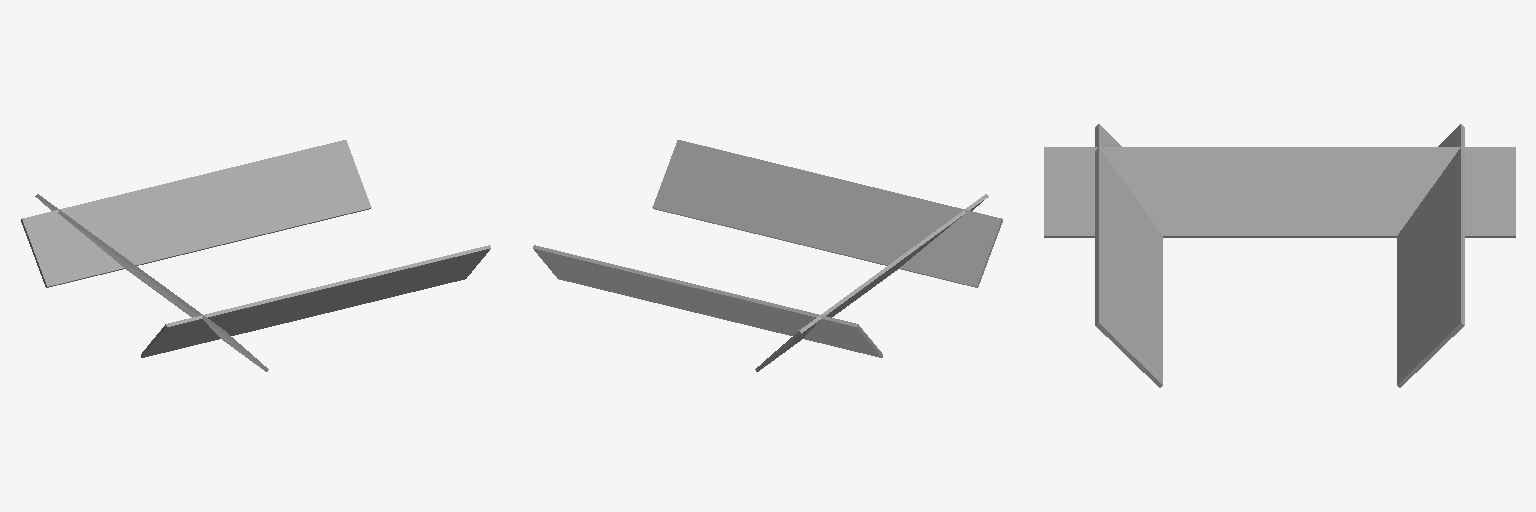
robot.urdf — bowl.urdf:
<?xml version="0.0" ?>
<robot name="bowl.urdf">
  <material name="mainColor">
    <color rgba=".67 .67 .67 1."/>
  </material>
<!--   <material name="mainColor">
    <color rgba=".55 .27 .1 1."/>
  </material> -->
<!--   <material name="mainColor">
    <color rgba="1. 1. 1. 1."/>
  </material> -->
  <material name="grey">
    <color rgba=".5 .5 .5 1."/>
  </material>

  <link name="world"/>

  <link name="base">
    <inertial>
      <origin rpy="0 0 0" xyz="0.0 0.0 0.0"/>
       <mass value=".1"/>
       <inertia ixx="1" ixy="0" ixz="0" iyy="1" iyz="0" izz="1"/>
    </inertial>

    <visual>
      <!-- right -->
      <origin rpy=".75 0 0" xyz="0 -.32 0"/>
      <geometry>
        <box size="1 .01 .2"/>
      </geometry>
      <material name="mainColor"/>
    </visual>
    <collision>
      <!-- right -->
      <origin rpy=".75 0 0" xyz="0 -.32 0"/>
      <geometry>
        <box size="1 .01 .2"/>
      </geometry>
    </collision>

    <visual>
      <!-- left -->
      <origin rpy="-.75 0 0" xyz="0 .32 0"/>
      <geometry>
        <box size="1 .01 .2"/>
      </geometry>
      <material name="mainColor"/>
    </visual>
    <collision>
      <!-- left -->
      <origin rpy="-.75 0 0" xyz="0 .32 0"/>
      <geometry>
        <box size="1 .01 .2"/>
      </geometry>
    </collision>

    <visual>
      <!-- back -->
      <origin rpy="0 -.75 0" xyz="-.32 0 0"/>
      <geometry>
        <box size=".01 1 .2"/>
      </geometry>
      <material name="mainColor"/>
    </visual>
    <collision>
      <!-- back -->
      <origin rpy="0 -.75 0" xyz="-.32 0 0"/>
      <geometry>
        <box size=".01 1 .2"/>
      </geometry>
    </collision>
  </link>

  <joint name="base_joint" type="fixed">
    <parent link="world"/>
    <child link="base"/>
  </joint>

</robot>

--- Facts derived from the render (not from the file) ---
The picture shows the robot from 3 angles, left to right: view 1: azimuth 30°, elevation 25°; view 2: azimuth 150°, elevation 25°; view 3: azimuth 270°, elevation 25°; orthographic projection.
Model bowl.urdf with 2 links and 1 joints (1 fixed), rooted at world, posed every joint at zero.
Visible links, largest first — view 1: base; view 2: base; view 3: base.
Boxes of the visible links, x1=… form: base: x1=21, y1=140, x2=490, y2=371; base: x1=533, y1=140, x2=1002, y2=371; base: x1=1044, y1=124, x2=1515, y2=387.
Size in the robot's own frame: 1 by 1 by 0.1532 metres.
Geometry: primitives only (box / cylinder / sphere), no mesh files.